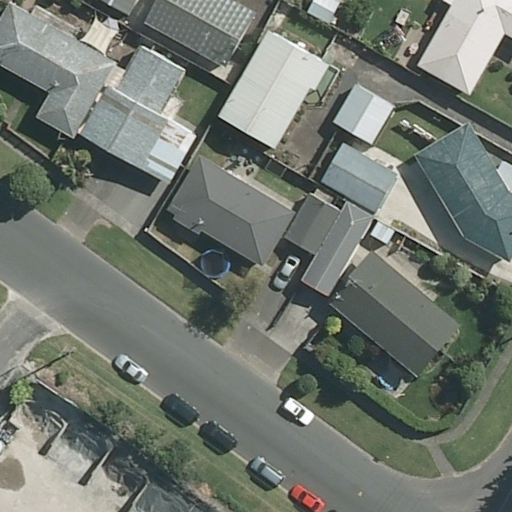DT: (58, 343, 80, 360)
